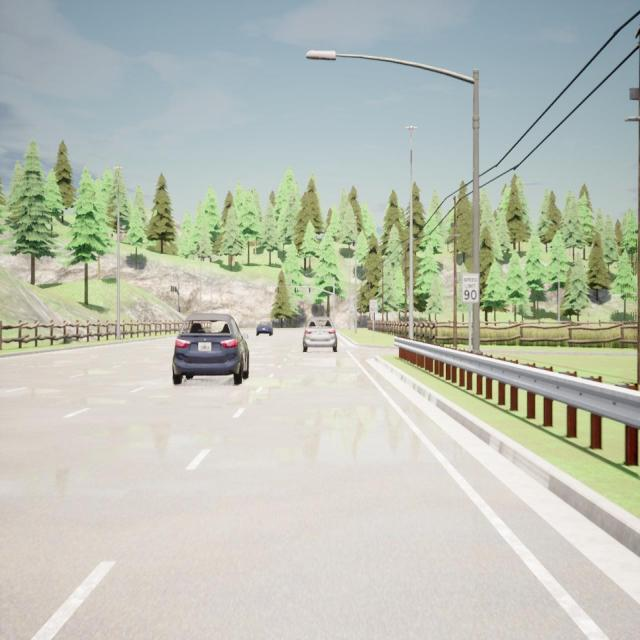Traffic_Signs: (462, 273, 479, 303), (369, 300, 378, 313)
Vehicle: (172, 313, 249, 384), (302, 317, 338, 353), (256, 321, 274, 336)
traffic_light: (278, 287, 280, 293), (294, 287, 296, 293), (309, 286, 310, 292), (173, 286, 174, 292), (175, 287, 176, 292), (171, 286, 172, 291)
